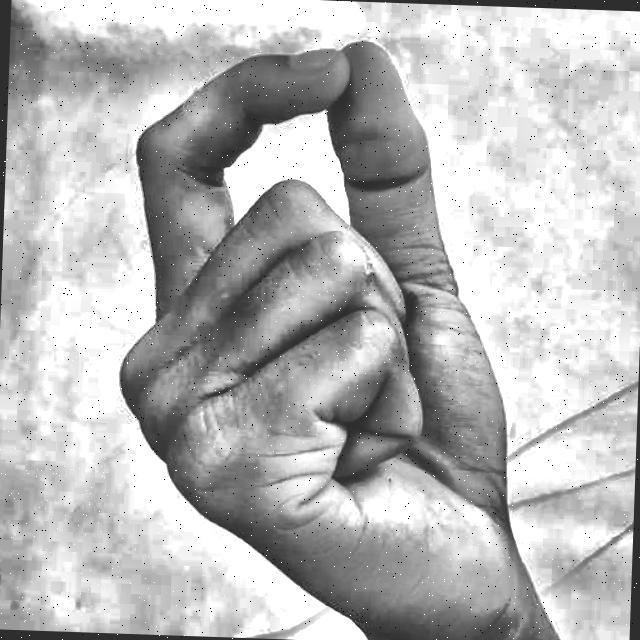Gha: (68, 15, 584, 640)
